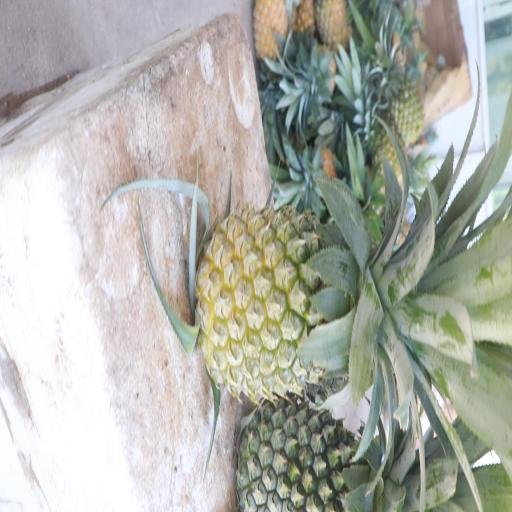------------------------------: (384, 63, 426, 138)
Pineapple - v8 v1: (200, 194, 395, 390), (252, 0, 288, 61)
